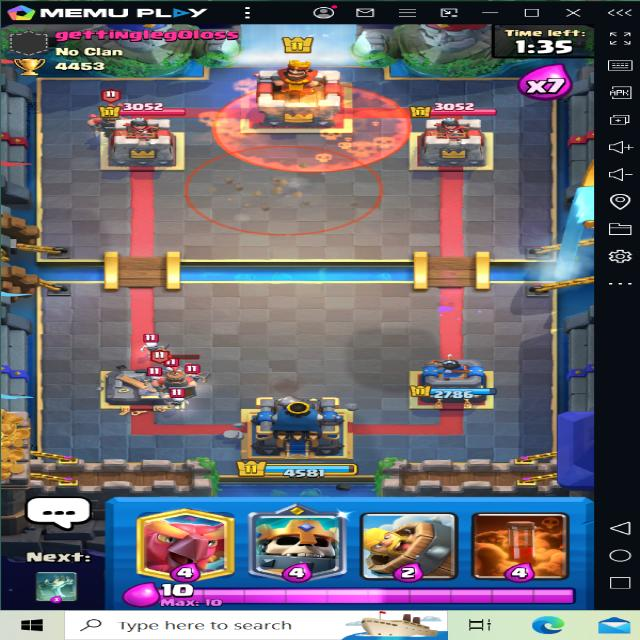poison: (183, 140, 394, 236), (207, 80, 411, 172)
royal-recruits: (79, 92, 131, 142), (150, 363, 198, 400)
skeleton: (161, 392, 189, 408), (180, 362, 202, 382), (132, 335, 159, 351)
